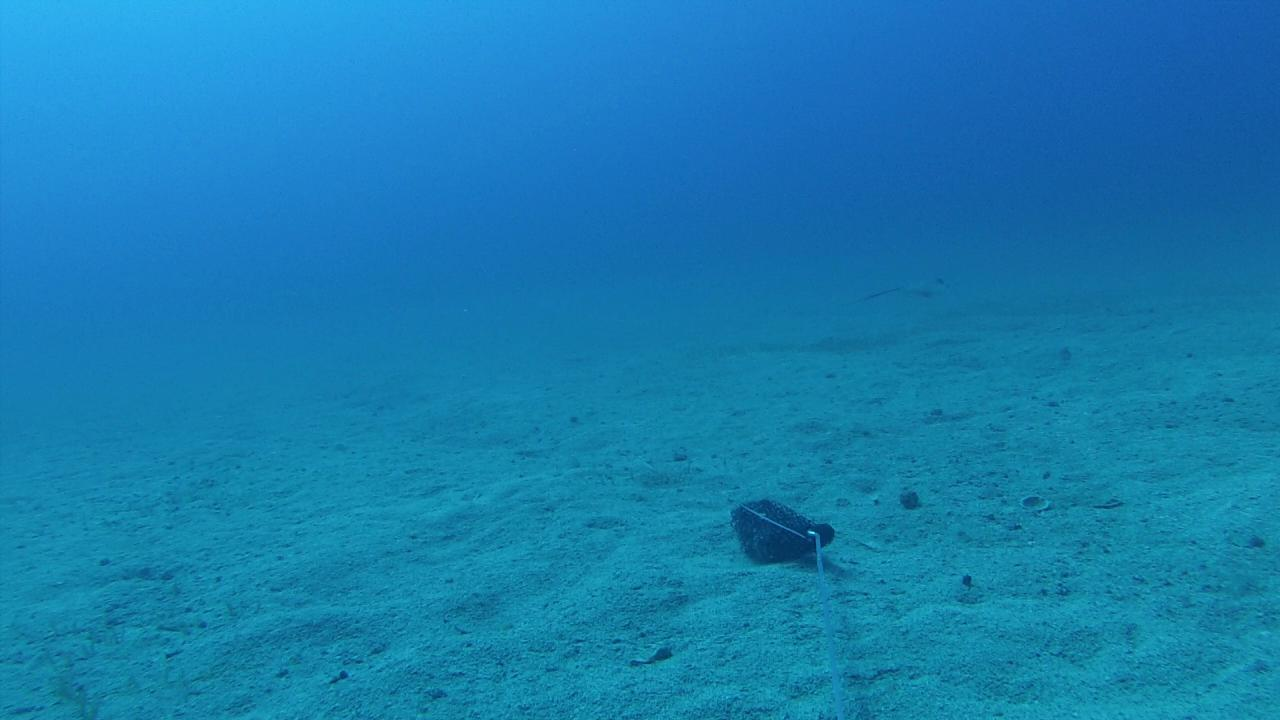dasyatis: (858, 274, 954, 300)
